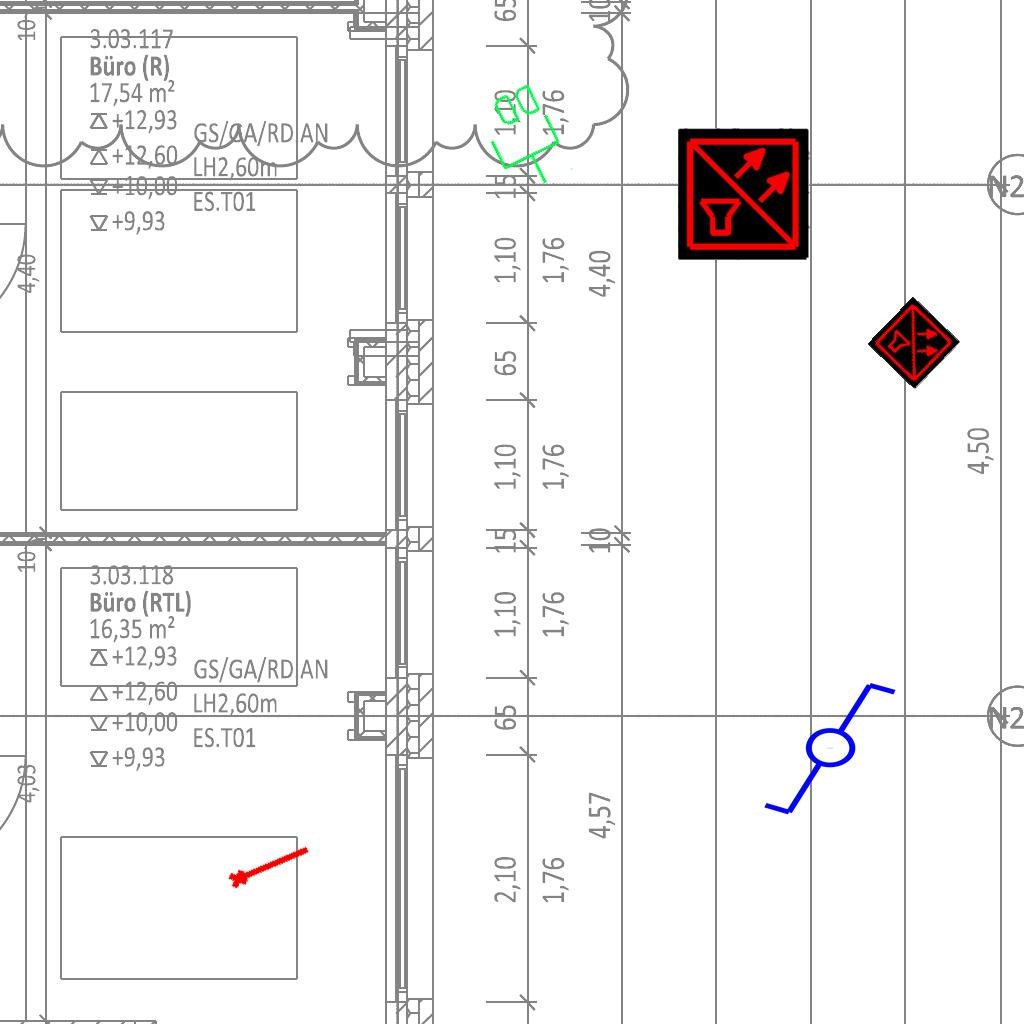ASR_Ansaugoeffnung: (224, 836, 314, 893)
Datenanschluss_zweifach: (470, 77, 579, 200)
OKW_Multisensormelder_(Kombination_optischer_Rauch-Kahlenmonoxid_Waerme-Melder): (678, 128, 810, 260), (867, 296, 961, 390)
Wechselschalter: (760, 678, 917, 822)
